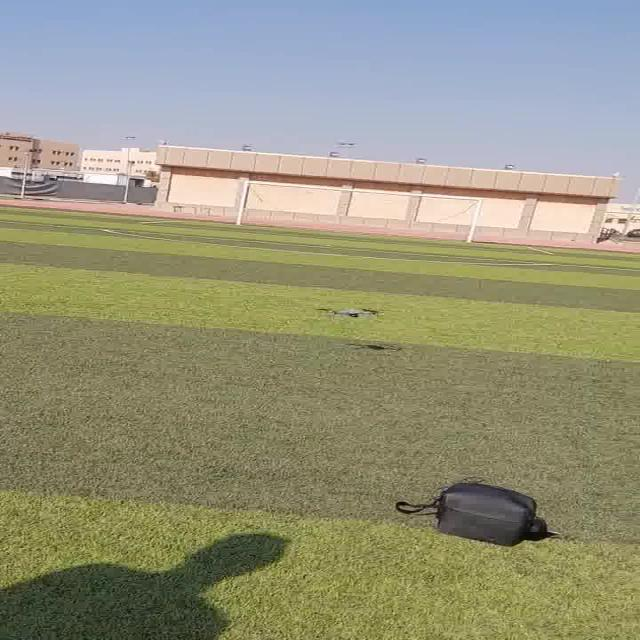drone: (309, 290, 392, 326)
